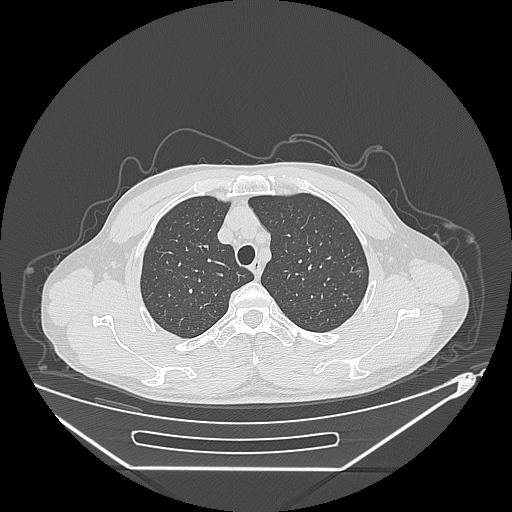nodule: (353, 265, 365, 276)
